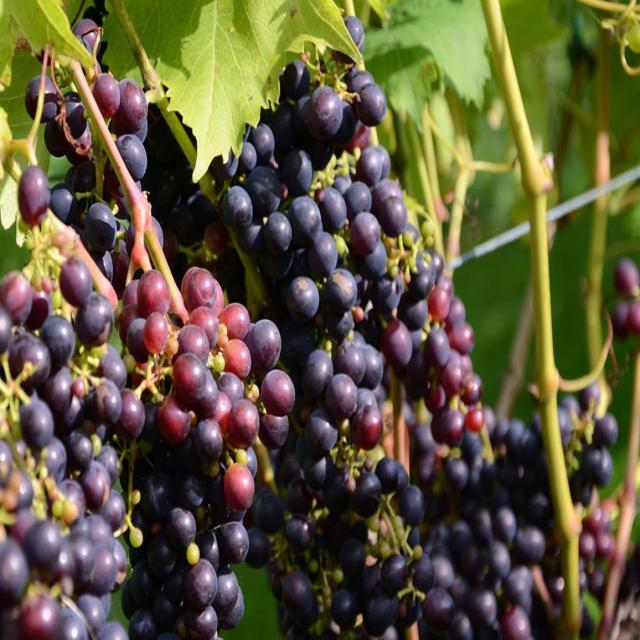grape: (0, 9, 640, 640)
